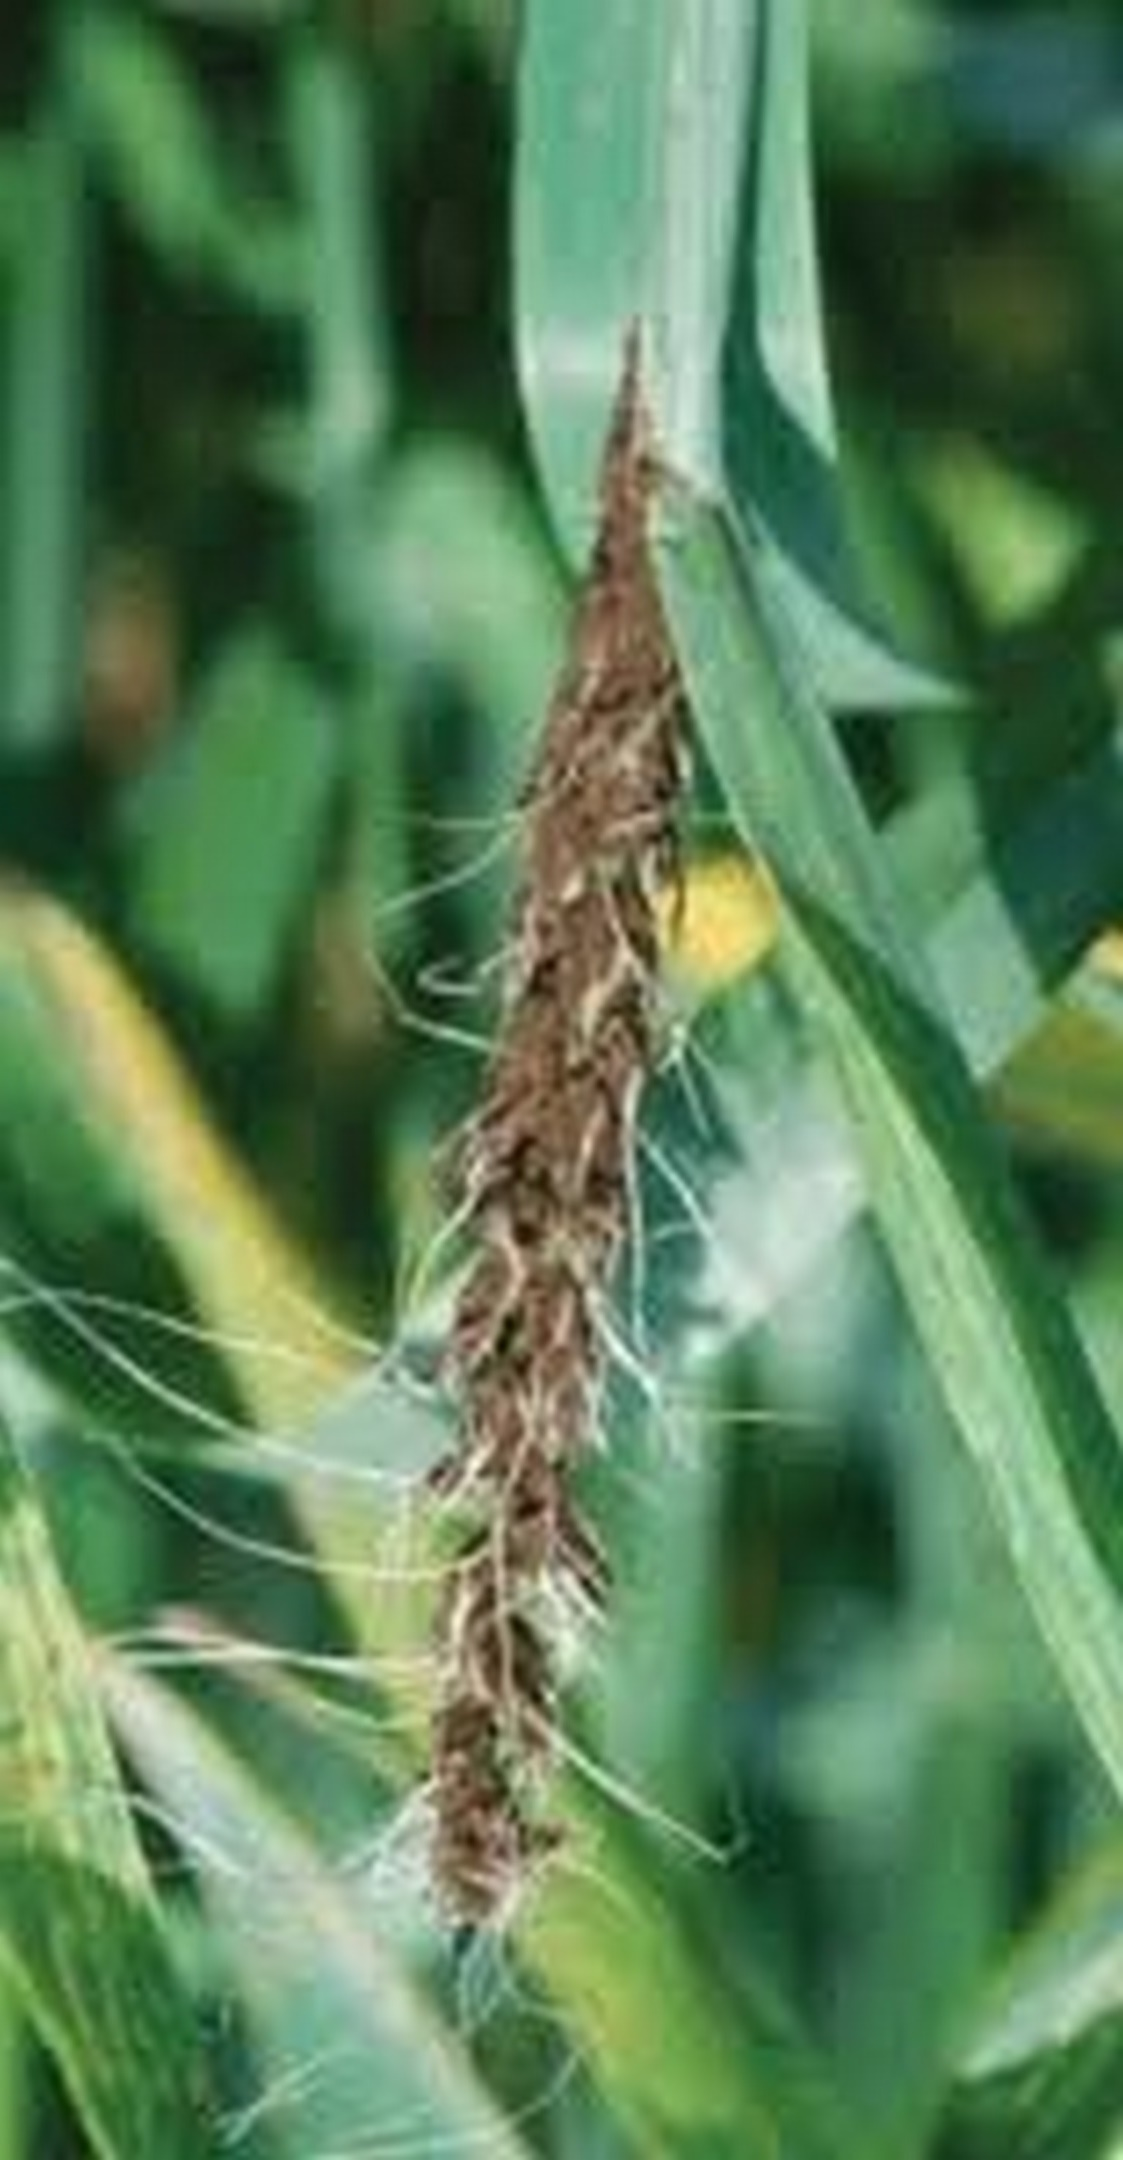Wheat Loose Smut: (346, 466, 762, 1951)
